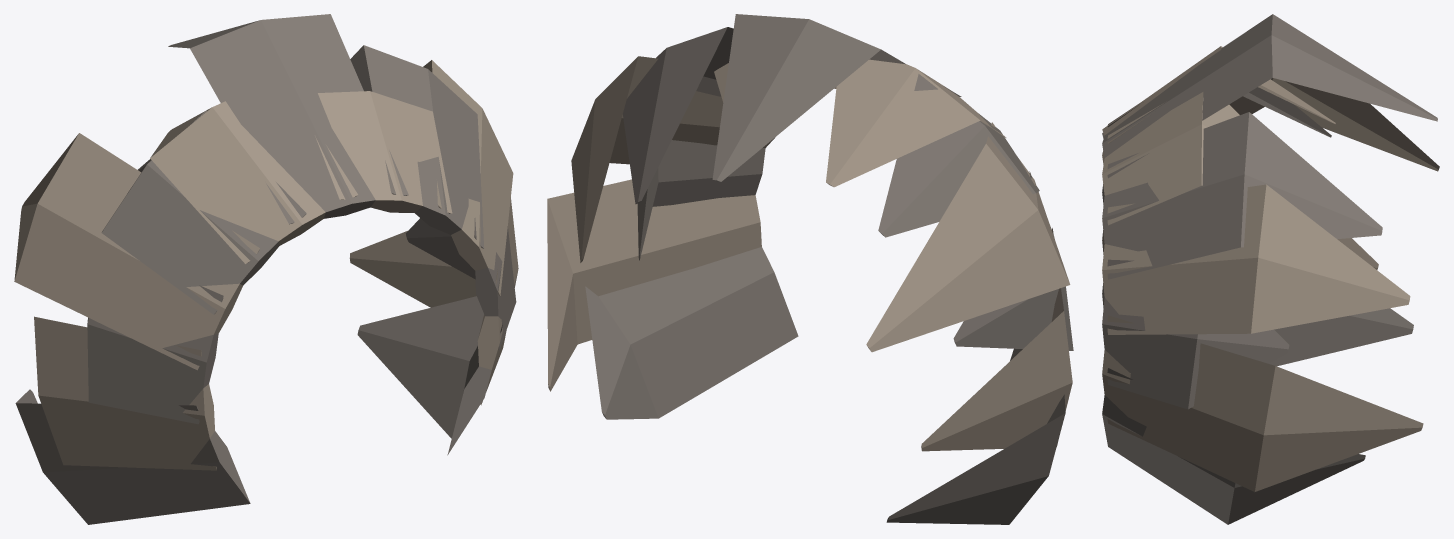
File: wolf-ruff.glb
The picture shows the model from 3 angles, left to right: view 1: azimuth 30°, elevation 25°; view 2: azimuth 150°, elevation 25°; view 3: azimuth 270°, elevation 25°; orthographic projection. The views are drawn at different scales.
Parts seen in each view (by area): view 1: ruff; view 2: ruff; view 3: ruff.
Boxes of the visible parts, x1=… form: ruff: x1=14, y1=14, x2=518, y2=524; ruff: x1=547, y1=14, x2=1073, y2=524; ruff: x1=1102, y1=14, x2=1439, y2=524.
Bounding box in the file's own units: 0.357 × 0.307 × 0.2235.
